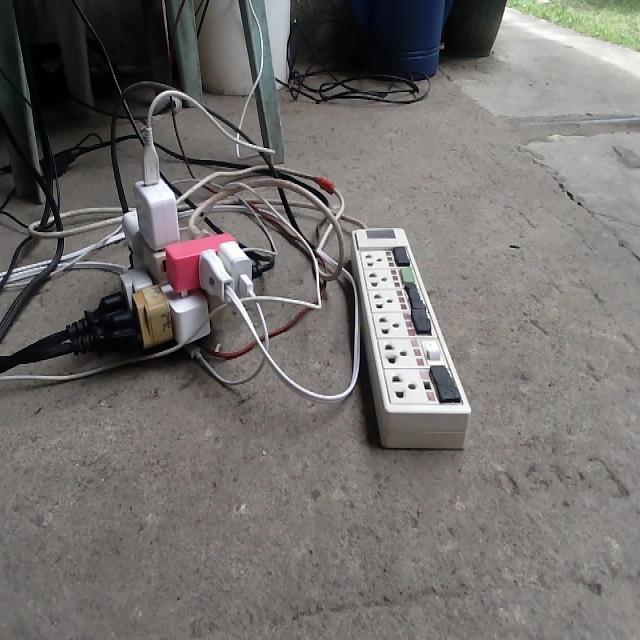-: (88, 154, 254, 374)
